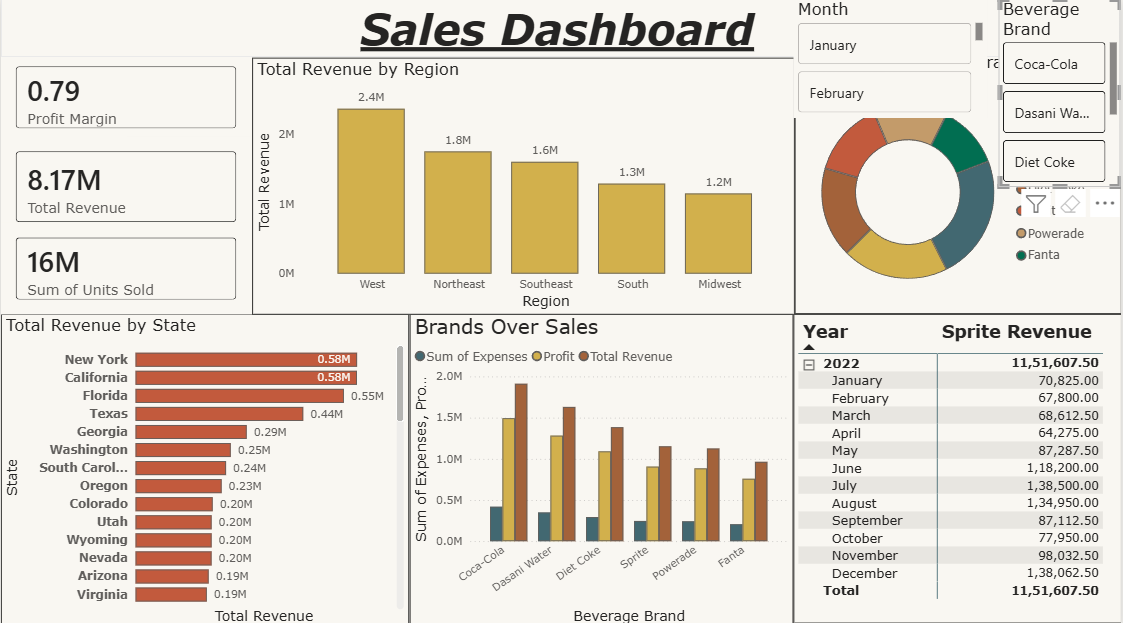

The page's visual inventory and layout, read from the dashboard file:
{"tool":"powerbi","page":{"name":"Page 1","canvas":[1280,720],"ordinal":0},"visuals":[{"type":"columnChart","fields":{"Category":["Data.Region"],"Y":["Data.Total Revenue"]},"box":[286.7,66.7,620,293.3],"z":1000},{"type":"clusteredColumnChart","title":"Brands Over Sales ","fields":{"Category":["Data.Beverage Brand"],"Y":["Sum(Data.Expenses)","Data.Profit","Data.Total Revenue"]},"box":[466.7,360,438.3,360],"z":2000},{"type":"donutChart","fields":{"Category":["Data.Beverage Brand"],"Y":["Data.Total Revenue"]},"box":[906.7,60,373.3,300],"z":3000},{"type":"pivotTable","fields":{"Rows":["Data.Date.Variation.Date Hierarchy.Year","Data.Date.Variation.Date Hierarchy.Month"],"Values":["Data.Sprite Revenue"]},"box":[905,360,375,353.3],"z":4000},{"type":"barChart","fields":{"Category":["Data.State"],"Y":["Data.Total Revenue"]},"box":[0,360,466.7,360],"z":5000},{"type":"cardVisual","fields":{"Data":["Data.Profit Margin"]},"box":[0,60,286.7,105],"z":5001},{"type":"cardVisual","fields":{"Data":["Data.Total Revenue"]},"box":[0,156.7,286.7,115],"z":5002},{"type":"cardVisual","fields":{"Data":["Sum(Data.Units Sold)"]},"box":[0,255,286.7,105],"z":5003},{"type":"textbox","box":[0,0,1280,66.7],"z":5004},{"type":"advancedSlicerVisual","fields":{"Values":["Data.Beverage Brand"]},"box":[1140,-0.3,140,215.7],"z":5005},{"type":"advancedSlicerVisual","fields":{"Values":["Data.Date.Variation.Date Hierarchy.Month"]},"box":[907.1,0,221.4,135.7],"z":5006}]}

Visuals, with their boxes in screenshot pixels (x1, y1, x2, y2), scaled from the page's 1280x720 canvas onto the 1123x623 screenshot:
columnChart - Data.Region x Data.Total Revenue: 252 58 795 312
"Brands Over Sales " clusteredColumnChart: 409 312 794 622
donutChart - Data.Beverage Brand x Data.Total Revenue: 795 52 1122 312
pivotTable - Data.Date.Variation.Date Hierarchy.Year x Data.Date.Variation.Date Hierarchy.Month: 794 312 1122 617
barChart - Data.State x Data.Total Revenue: 0 312 409 622
cardVisual - Data.Profit Margin: 0 52 252 143
cardVisual - Data.Total Revenue: 0 136 252 235
cardVisual - Sum(Data.Units Sold): 0 221 252 312
textbox: 0 0 1122 58
advancedSlicerVisual - Data.Beverage Brand: 1000 0 1122 186
advancedSlicerVisual - Data.Date.Variation.Date Hierarchy.Month: 796 0 990 117
